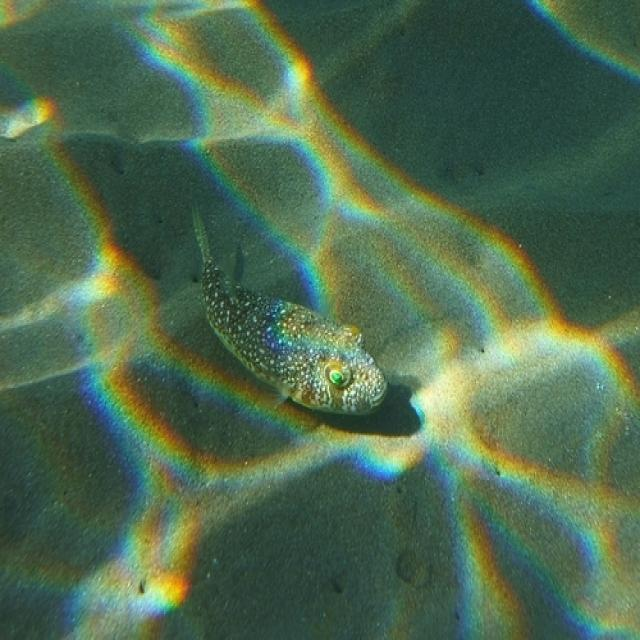Balik: (194, 211, 386, 413)
